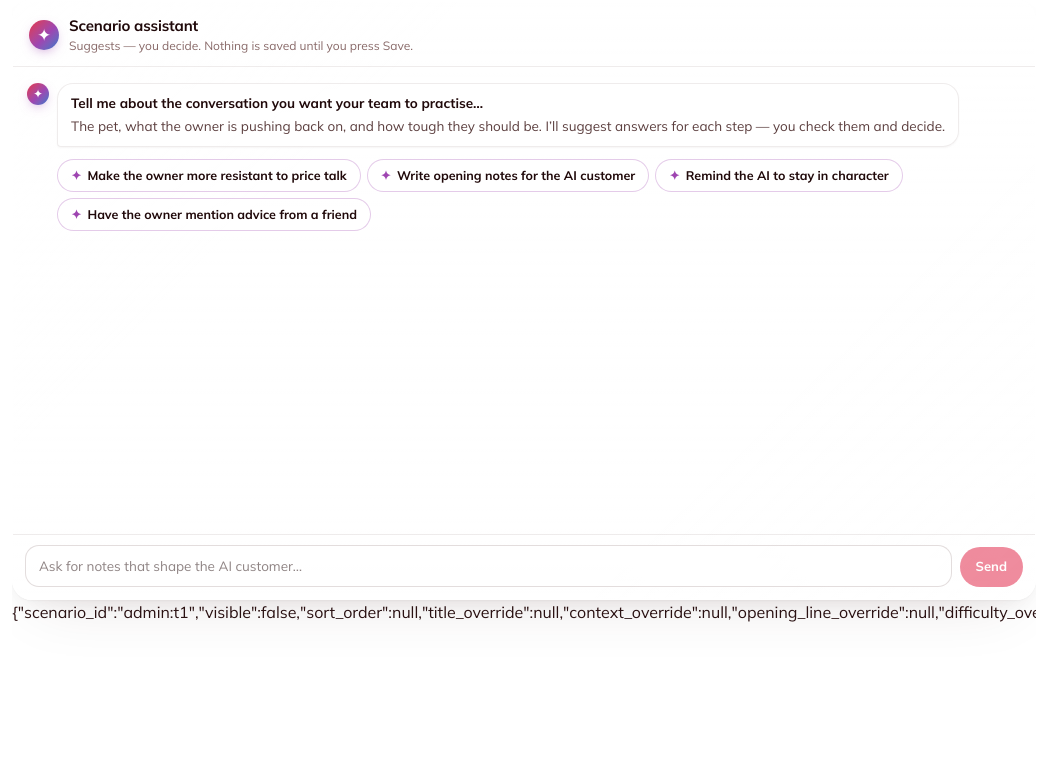
Test: CopilotPanel › Not now dismisses the card without touching the draft
Type "Notes please" into the text box named "Message the scenario assistant" at (488,566), box x1=25 y1=545 x2=952 y2=587
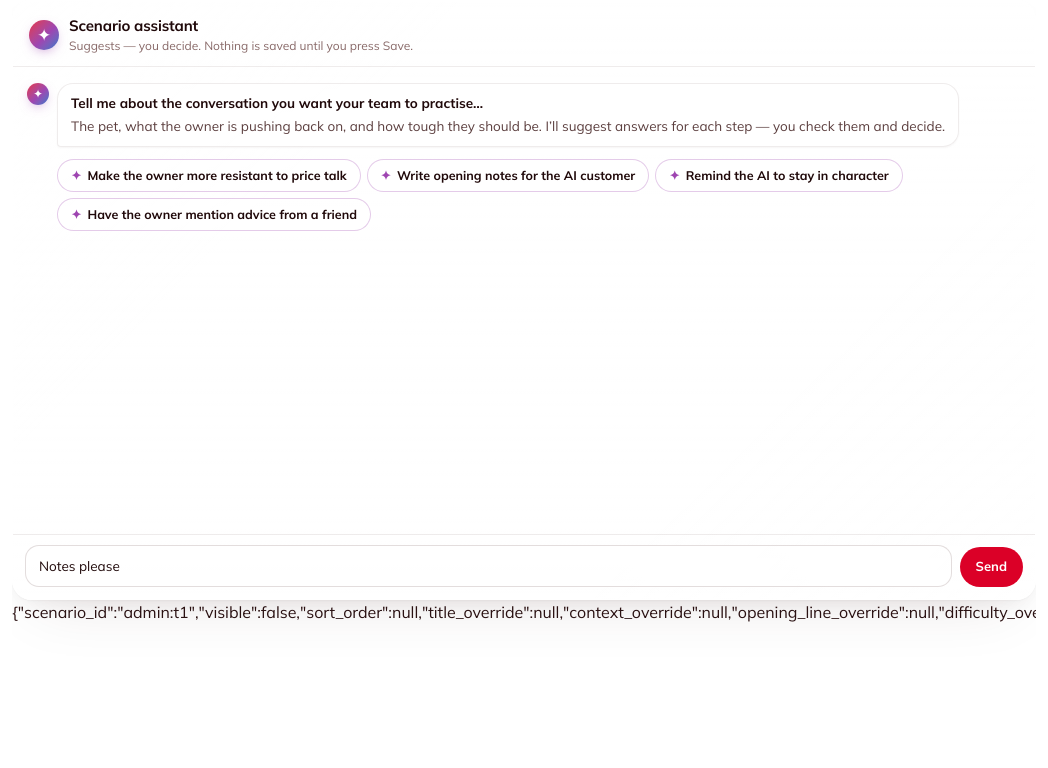
Press Enter in the text box named "Message the scenario assistant", box x1=25 y1=545 x2=952 y2=587
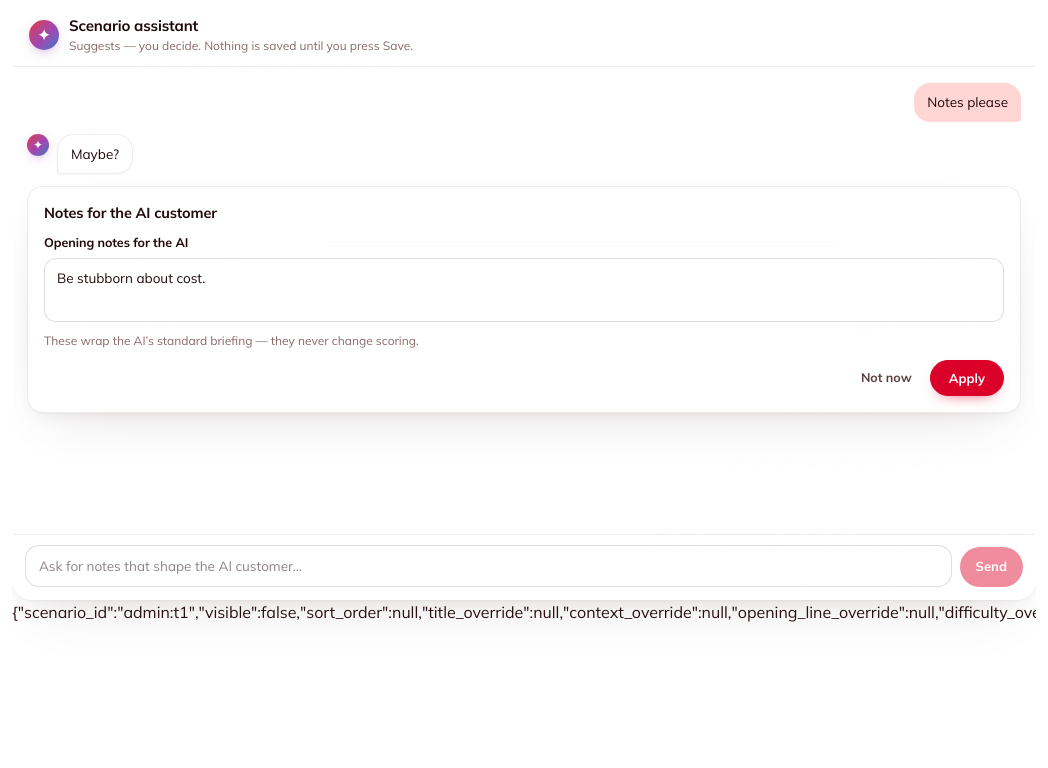
Check: the text box named "Opening notes for the AI" holds "Be stubborn about cost.", box x1=44 y1=258 x2=1004 y2=322
Click the button "Not now" at (886,378), box x1=851 y1=362 x2=922 y2=394
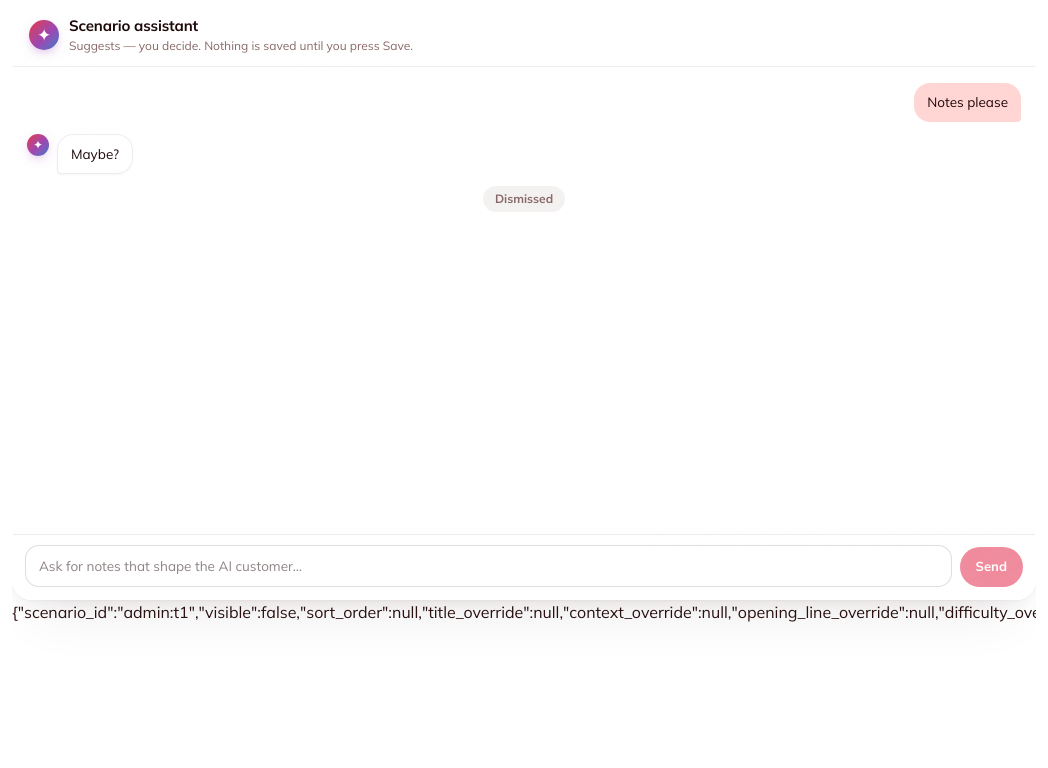
Check: the text "Dismissed" is shown, box x1=483 y1=186 x2=565 y2=212
Check: the text "Notes for the AI customer" is gone
